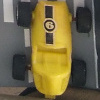amarillo: (16, 1, 89, 100)
